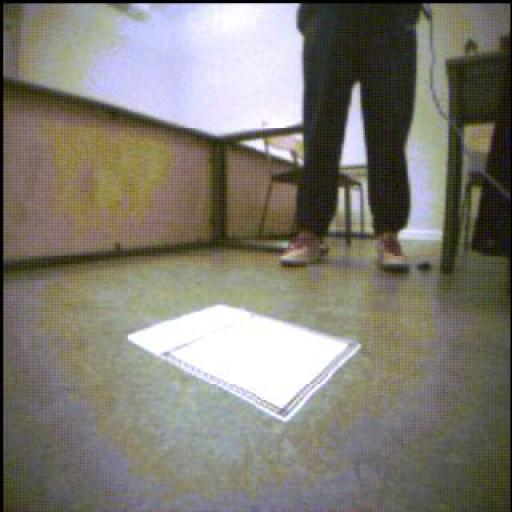Pad: (129, 305, 361, 422)
